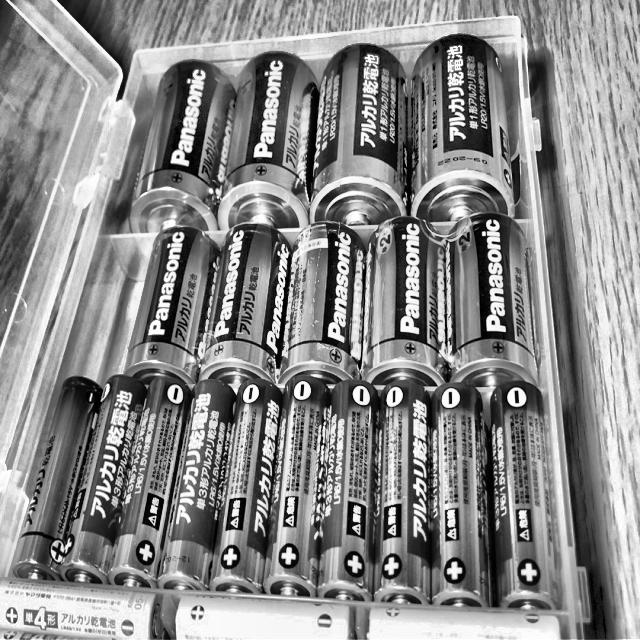drycell: (122, 61, 238, 234), (219, 51, 319, 238)
